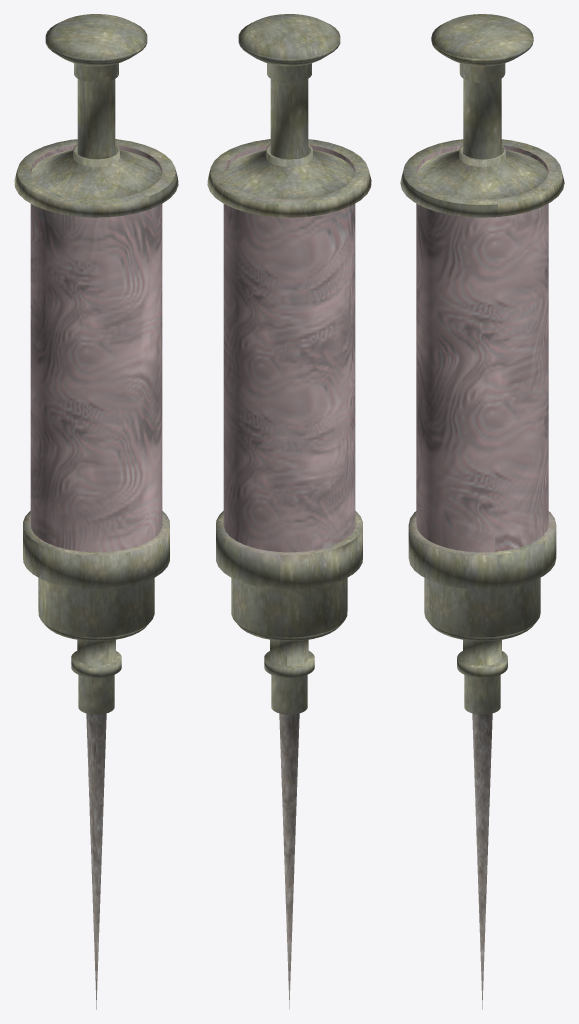
The model's file is syringe.glb.
The picture shows the model from 3 angles, left to right: view 1: azimuth 30°, elevation 25°; view 2: azimuth 150°, elevation 25°; view 3: azimuth 270°, elevation 25°; orthographic projection.
Parts seen in each view (by area): view 1: CenterCylinder, Tip, TopCap, Plunger; view 2: CenterCylinder, Tip, TopCap, Plunger; view 3: CenterCylinder, Tip, TopCap, Plunger.
Boxes of the visible parts, x1,y1,x2,y2 form: CenterCylinder: [30, 145, 162, 552]; Tip: [23, 511, 169, 1009]; TopCap: [14, 139, 178, 217]; Plunger: [45, 14, 147, 158]; CenterCylinder: [223, 145, 355, 552]; Tip: [216, 511, 362, 1009]; TopCap: [207, 139, 371, 217]; Plunger: [238, 14, 340, 158]; CenterCylinder: [416, 145, 548, 552]; Tip: [408, 511, 556, 1009]; TopCap: [400, 139, 564, 217]; Plunger: [431, 14, 533, 158].
Size of the model in its own units: 0.0432 by 0.2851 by 0.0432.
1 material, 1 textured.
